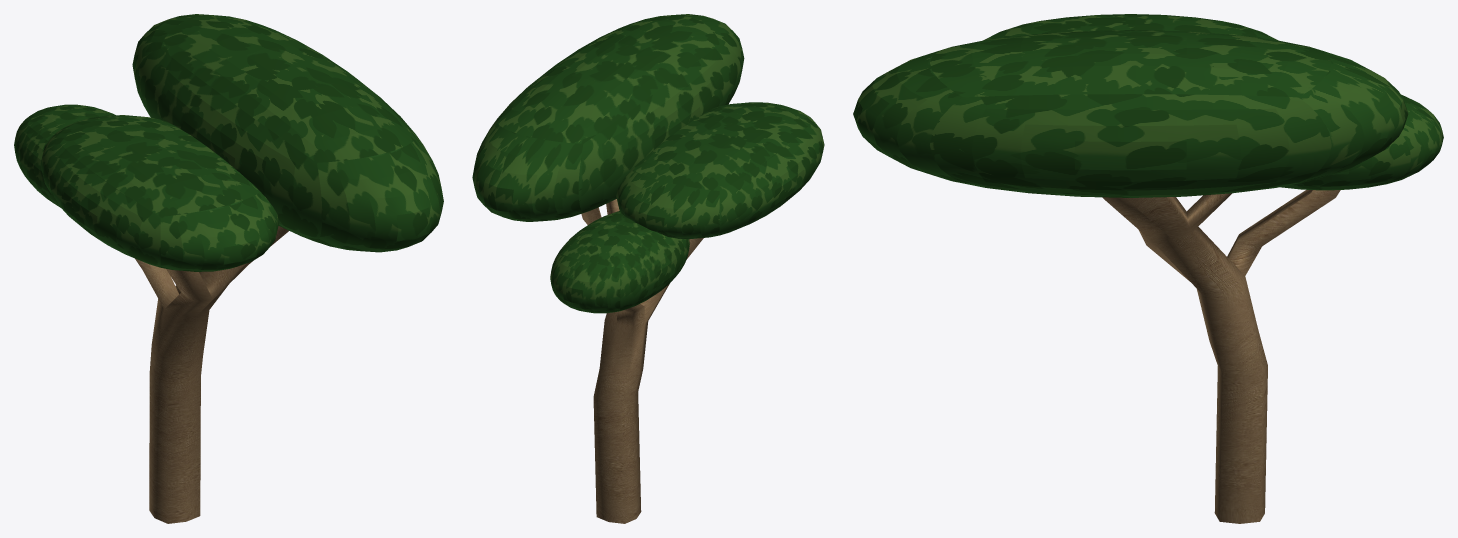
The model's file is tree-1.2.glb.
3 views of the same model, side by side, from view 1: azimuth 30°, elevation 25°; view 2: azimuth 150°, elevation 25°; view 3: azimuth 270°, elevation 25° (orthographic). The views are drawn at different scales.
Visible parts, largest first — view 1: tree1.002; view 2: tree1.002; view 3: tree1.002.
Part boxes in pixels (box(x1,y1,x2,y2)): tree1.002: box(14, 14, 443, 523); tree1.002: box(472, 14, 824, 523); tree1.002: box(853, 14, 1443, 523).
Bounding box in the file's own units: 9.08 × 13.88 × 14.79.
Materials: 2 (2 with a texture image).
